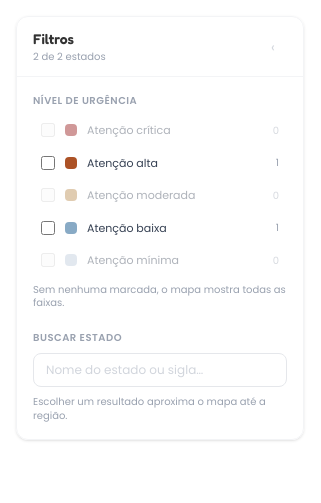
FilterPanel › com uma única região oculta usa o singular
Click the checkbox labelled "Atenção alta 1" at (48, 163), box [41,156,55,170]
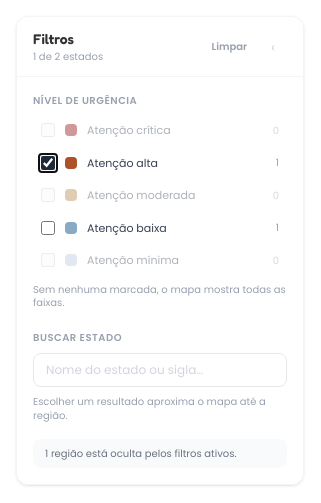
Now the text "1 região está oculta pelos filtros ativos." is shown, box [33,438,287,468]
